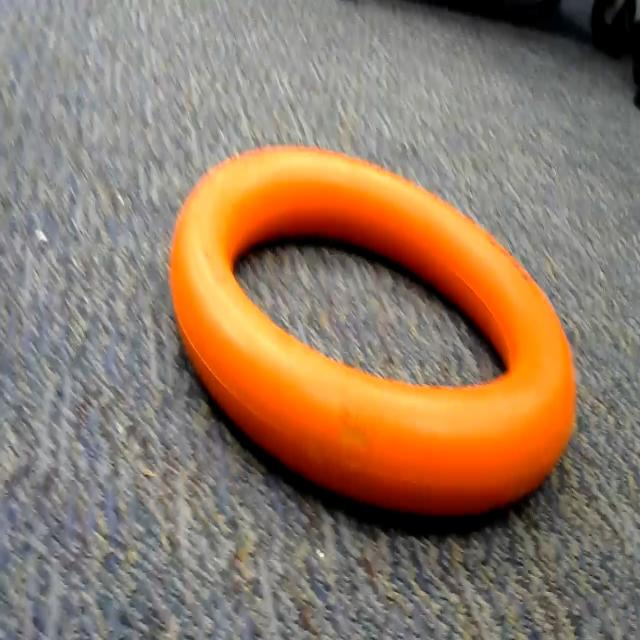note: (163, 138, 592, 524)
